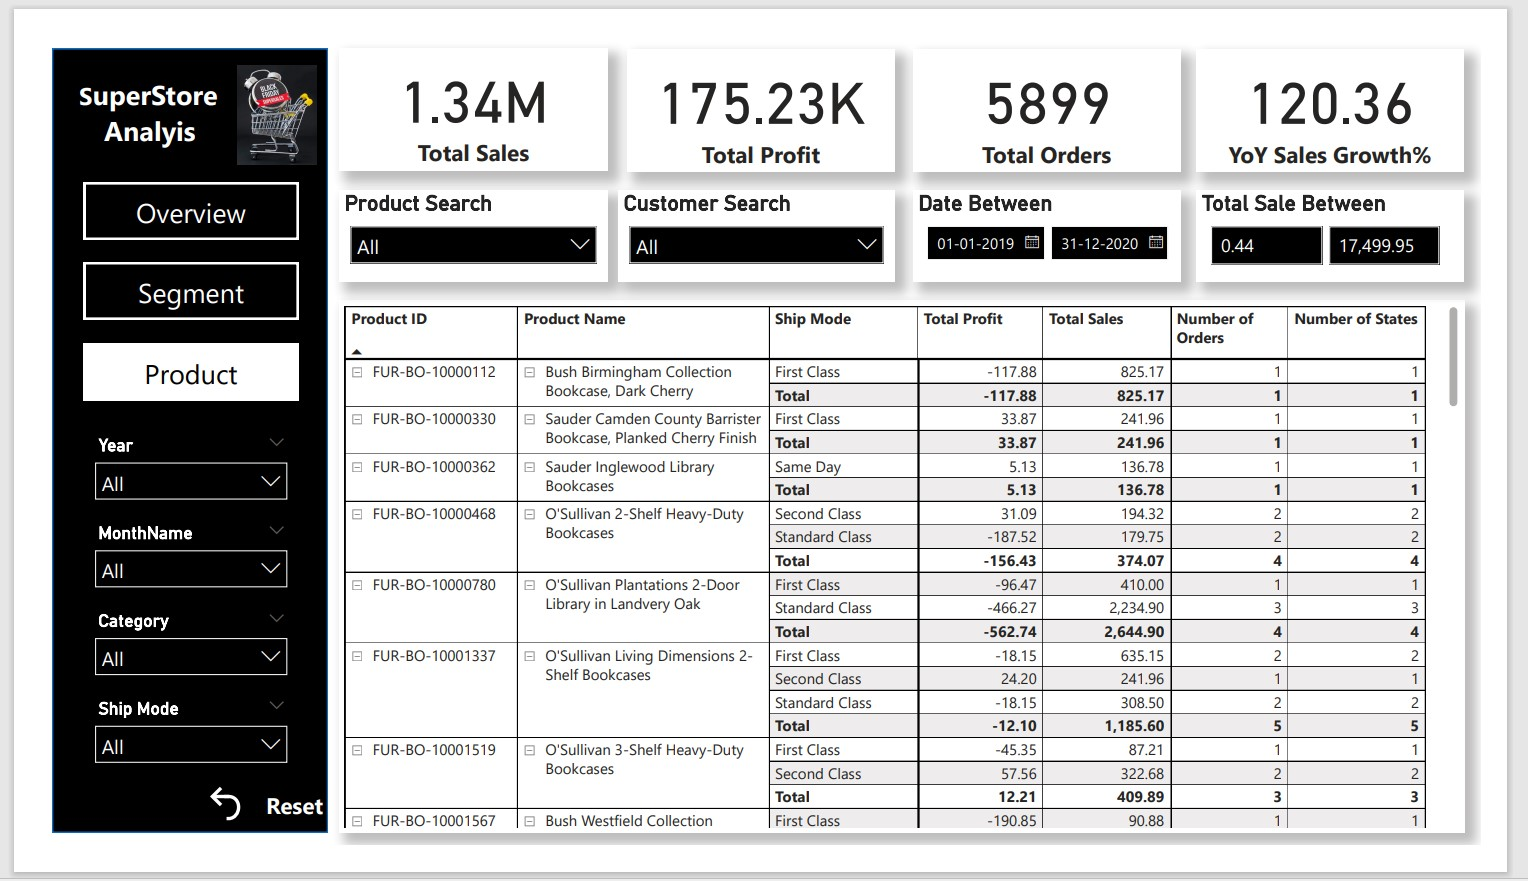

This screenshot's page, from the dashboard's own definition file:
{"tool":"powerbi","page":{"name":"Product","canvas":[1280,720],"ordinal":1},"visuals":[{"type":"shape","title":"SUPERSTORE","box":[9.8,12.2,245.7,696.8],"z":0},{"type":"textbox","box":[29.3,30.6,135.7,79.5],"z":1000},{"type":"image","box":[165,22,90.5,97.8],"z":2000},{"type":"actionButton","box":[37.9,130.8,190.7,51.3],"z":3000},{"type":"actionButton","box":[37.9,265.3,190.7,51.3],"z":4000},{"type":"actionButton","box":[37.9,193.1,190.7,51.3],"z":5000},{"type":"slicer","fields":{"Values":["Orders.Year"]},"box":[37.9,349.6,190.7,68.5],"z":6000},{"type":"slicer","fields":{"Values":["Orders.MonthName"]},"box":[37.9,427.8,190.7,78.2],"z":7000},{"type":"slicer","fields":{"Values":["Orders.Category"]},"box":[37.9,506.1,190.7,78.2],"z":8000},{"type":"slicer","fields":{"Values":["Orders.Ship Mode"]},"box":[37.9,584.3,190.7,78.2],"z":9000},{"type":"card","fields":{"Values":["Orders.Total Sales"]},"box":[265.3,12.2,238.4,108.8],"z":10000},{"type":"card","fields":{"Values":["Orders.Total Profit"]},"box":[520.7,13.4,238.4,108.8],"z":11000},{"type":"card","fields":{"Values":["CountNonNull(Orders.Order ID)"]},"box":[775,13.4,238.4,108.8],"z":12000},{"type":"card","fields":{"Values":["CountNonNull(Returns.Order ID)"]},"box":[1026.8,13.4,238.4,108.8],"z":13000},{"type":"pivotTable","fields":{"Rows":["Orders.Product ID","Orders.Product Name","Orders.Ship Mode"],"Values":["Orders.Total Profit","Orders.Total Sales","Count(Orders.Order ID)","CountNonNull(Orders.State)"]},"box":[265,236.2,1000,472.5],"z":14000},{"type":"slicer","title":"Product Search","fields":{"Values":["Orders.Product ID"]},"box":[265.3,138.1,238.4,80.7],"z":15000},{"type":"slicer","title":"Customer Search","fields":{"Values":["Orders.Customer ID"]},"box":[513.4,138.1,245.7,80.7],"z":16000},{"type":"slicer","title":"Date Between","fields":{"Values":["Orders.Ship Date"]},"box":[775,138.1,238.4,80.7],"z":17000},{"type":"slicer","title":"Total Sale Between","fields":{"Values":["Orders.Sales"]},"box":[1026.8,138.1,238.4,80.7],"z":18000},{"type":"actionButton","title":"Reset","box":[144.2,662.5,111.2,40.3],"z":19001}]}

Visuals, with their boxes in screenshot pixels (x1, y1, x2, y2), scaled from the page's 1280x720 canvas onto the 1528x881 screenshot:
"SUPERSTORE" shape: [12, 15, 305, 868]
textbox: [35, 37, 197, 135]
image: [197, 27, 305, 147]
actionButton: [45, 160, 273, 223]
actionButton: [45, 325, 273, 387]
actionButton: [45, 236, 273, 299]
slicer - Orders.Year: [45, 428, 273, 512]
slicer - Orders.MonthName: [45, 523, 273, 619]
slicer - Orders.Category: [45, 619, 273, 715]
slicer - Orders.Ship Mode: [45, 715, 273, 811]
card - Orders.Total Sales: [317, 15, 601, 148]
card - Orders.Total Profit: [622, 16, 906, 150]
card - CountNonNull(Orders.Order ID): [925, 16, 1210, 150]
card - CountNonNull(Returns.Order ID): [1226, 16, 1510, 150]
pivotTable - Orders.Product ID x Orders.Product Name: [316, 289, 1510, 867]
"Product Search" slicer: [317, 169, 601, 268]
"Customer Search" slicer: [613, 169, 906, 268]
"Date Between" slicer: [925, 169, 1210, 268]
"Total Sale Between" slicer: [1226, 169, 1510, 268]
"Reset" actionButton: [172, 811, 305, 860]
